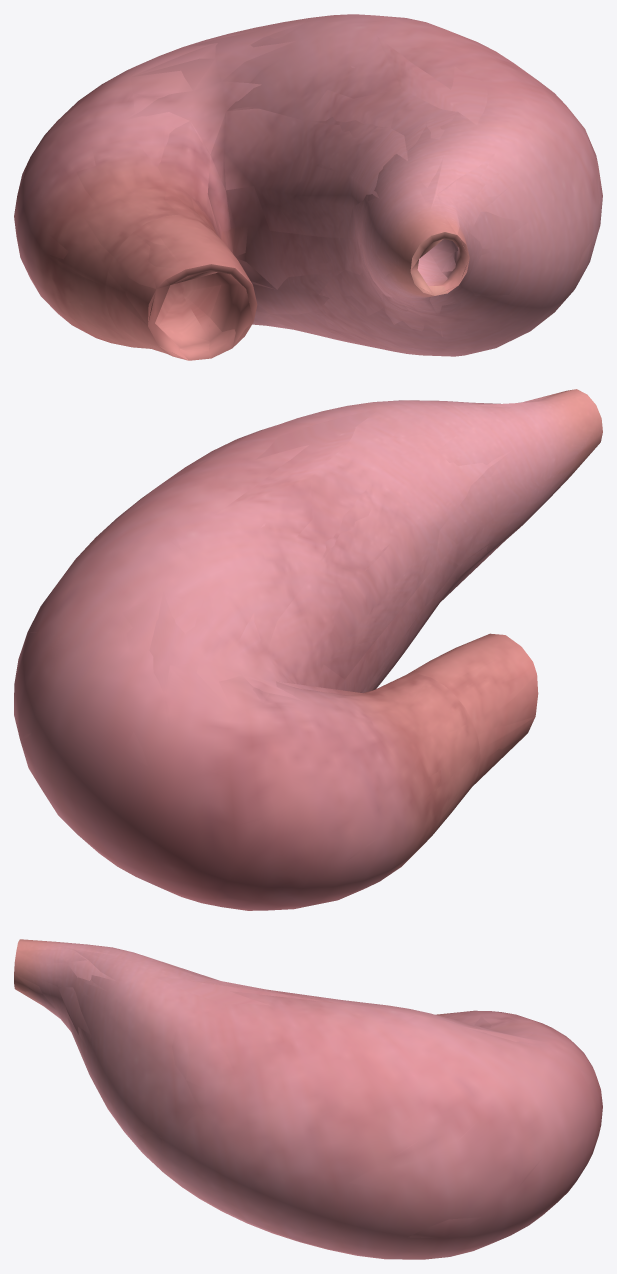
Rendered from Stomach.fbx.
3 views of the same model, one above another, from view 1: azimuth 30°, elevation 25°; view 2: azimuth 150°, elevation 25°; view 3: azimuth 270°, elevation 25° (orthographic). The views are drawn at different scales.
Visible parts, largest first — view 1: Stomach high, Stomach low, Stomach; view 2: Stomach high, Stomach low, Stomach; view 3: Stomach high, Stomach, Stomach low.
Boxes of the visible parts, x1,y1,x2,y2 form: Stomach high: [14, 14, 602, 360]; Stomach low: [16, 23, 527, 360]; Stomach: [14, 18, 602, 359]; Stomach high: [14, 389, 602, 910]; Stomach low: [20, 391, 563, 861]; Stomach: [15, 389, 602, 909]; Stomach high: [14, 939, 602, 1259]; Stomach: [14, 939, 601, 1259]; Stomach low: [15, 949, 551, 1238].
Size of the model in its own units: 3.89 by 2.8 by 5.8.
Materials: 1 (1 with a texture image).
